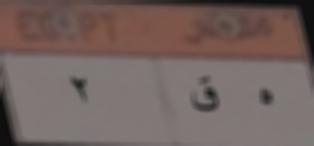2: (63, 68, 99, 113)
haa: (251, 80, 278, 113)
qaaf: (185, 73, 224, 118)
